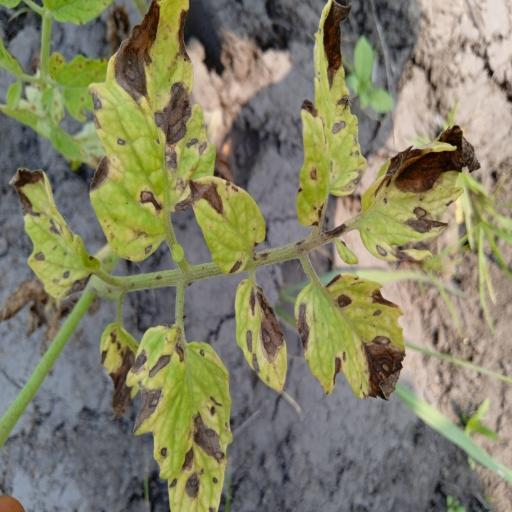Tomato_Brown_Spots: (88, 0, 221, 268), (130, 317, 236, 512), (355, 119, 485, 266), (296, 0, 372, 233), (292, 267, 409, 409), (186, 171, 268, 277), (228, 275, 294, 396)
